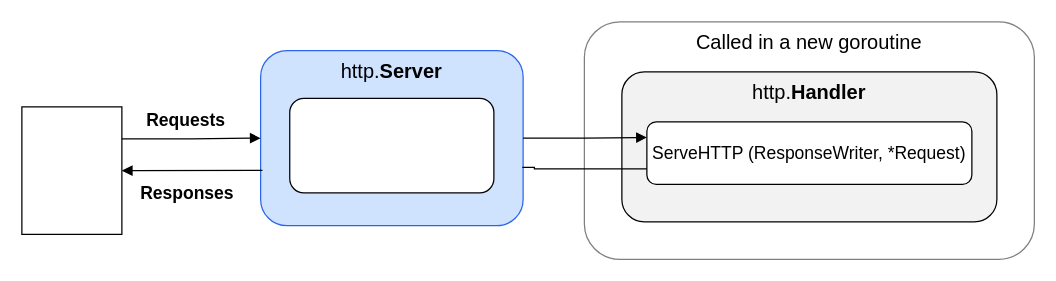
Some shapes in this 1056 by 281 pixel diagram are drawn without their labels. Here are the shapes that lost their labels. From the top down, the centre of each, then its label:
At [391,145]: "Registered http. Handler implementation".
At [71,170]: "TCP connections".
